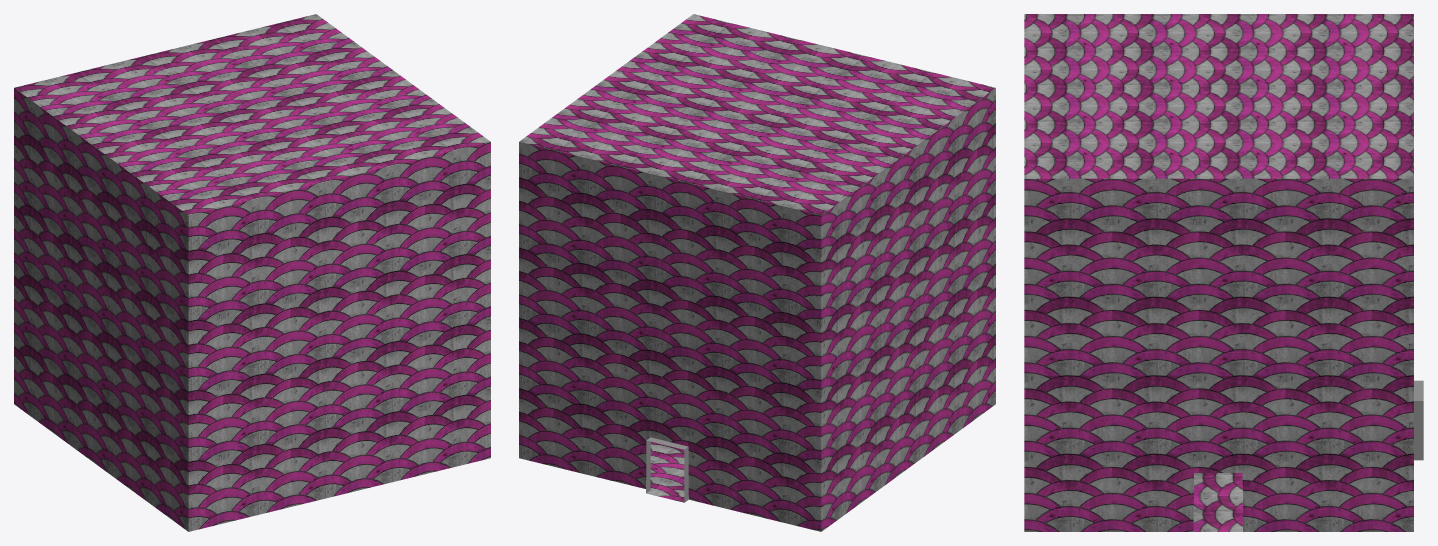
The model's file is Arches_Rm.fbx.
3 renders of one model, left to right at view 1: azimuth 30°, elevation 25°; view 2: azimuth 150°, elevation 25°; view 3: azimuth 270°, elevation 25°, orthographic. The views are drawn at different scales.
Parts seen in each view (by area): view 1: P_Arches_Rm; view 2: P_Arches_Rm; view 3: P_Arches_Rm.
Part boxes in pixels (x1,y1,x2,y2): P_Arches_Rm: [14, 14, 490, 531]; P_Arches_Rm: [519, 14, 995, 531]; P_Arches_Rm: [1024, 14, 1423, 531].
Bounding box in the file's own units: 27.81 × 27.81 × 28.51.
